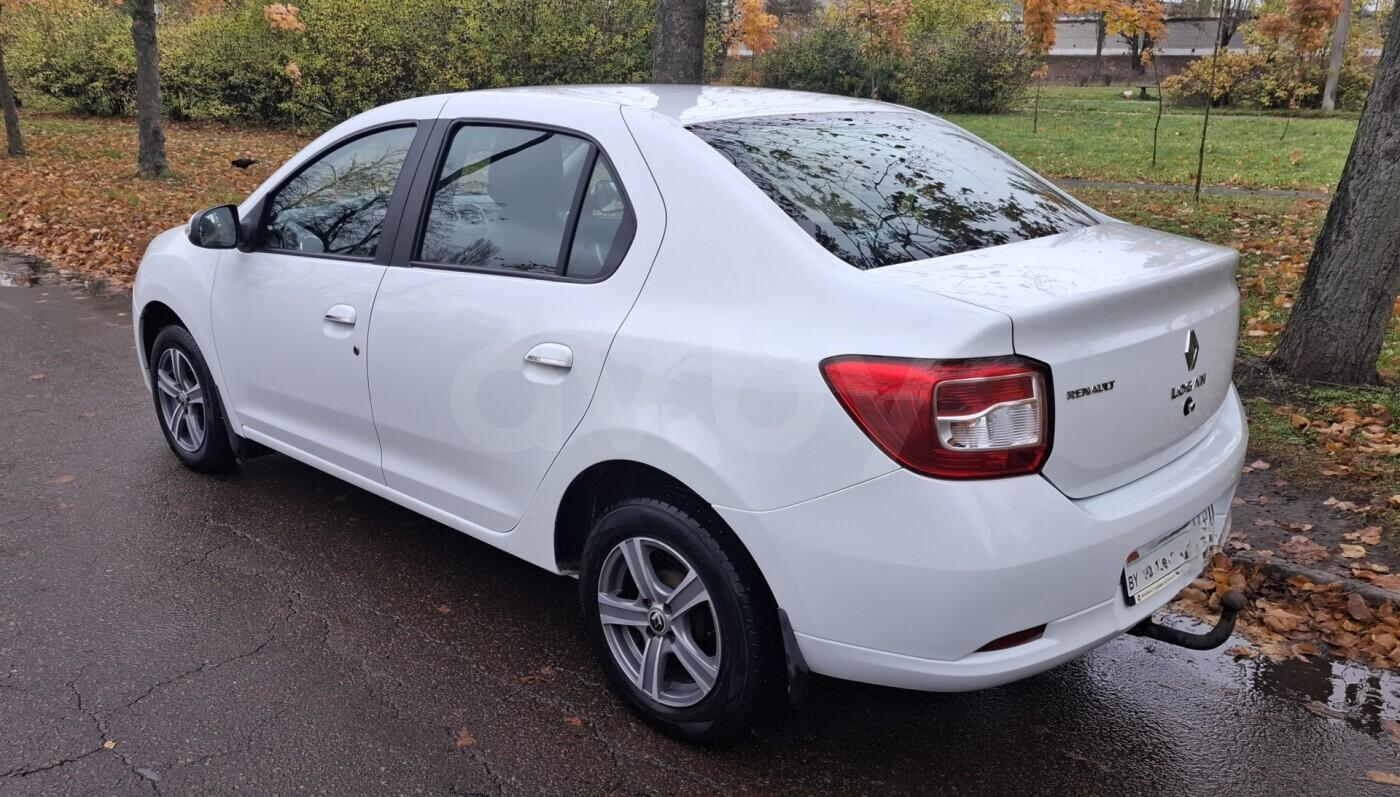Logan_2013-2018: (128, 68, 1254, 721)
